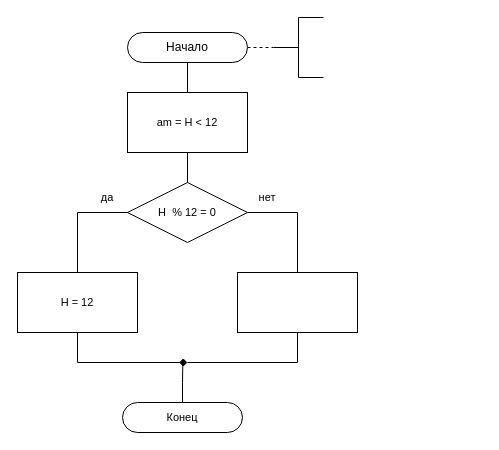
The diagram is 499 pixels wide and 450 high, and some of its shapes have lost their labels. The centre of each missing label's shape, as x and y in pixels:
H = H % 12: the point at 297,302
Time24ToTime12( H, M, S, am);: the point at 298,47
